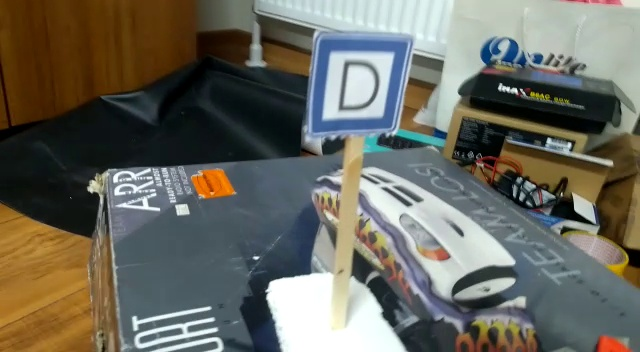durak: (317, 22, 406, 135)
